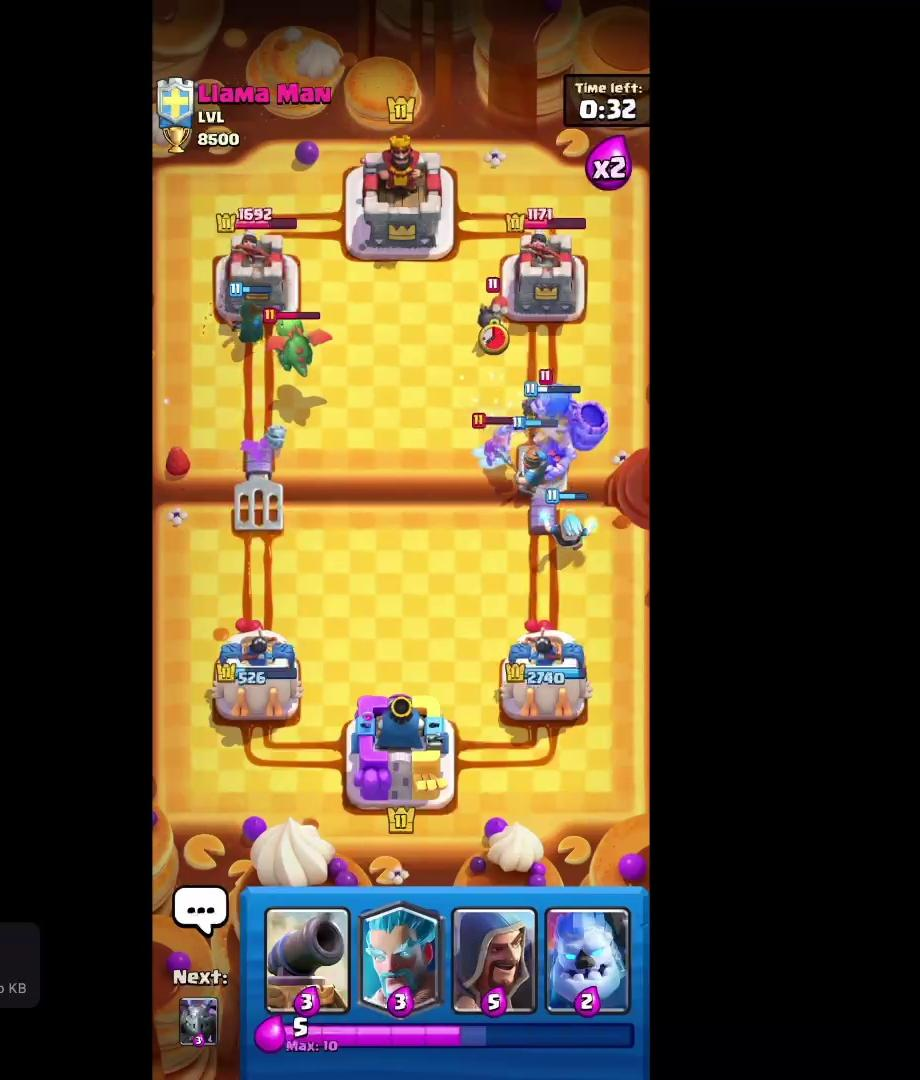Baby Dragon: (264, 307, 331, 383)
